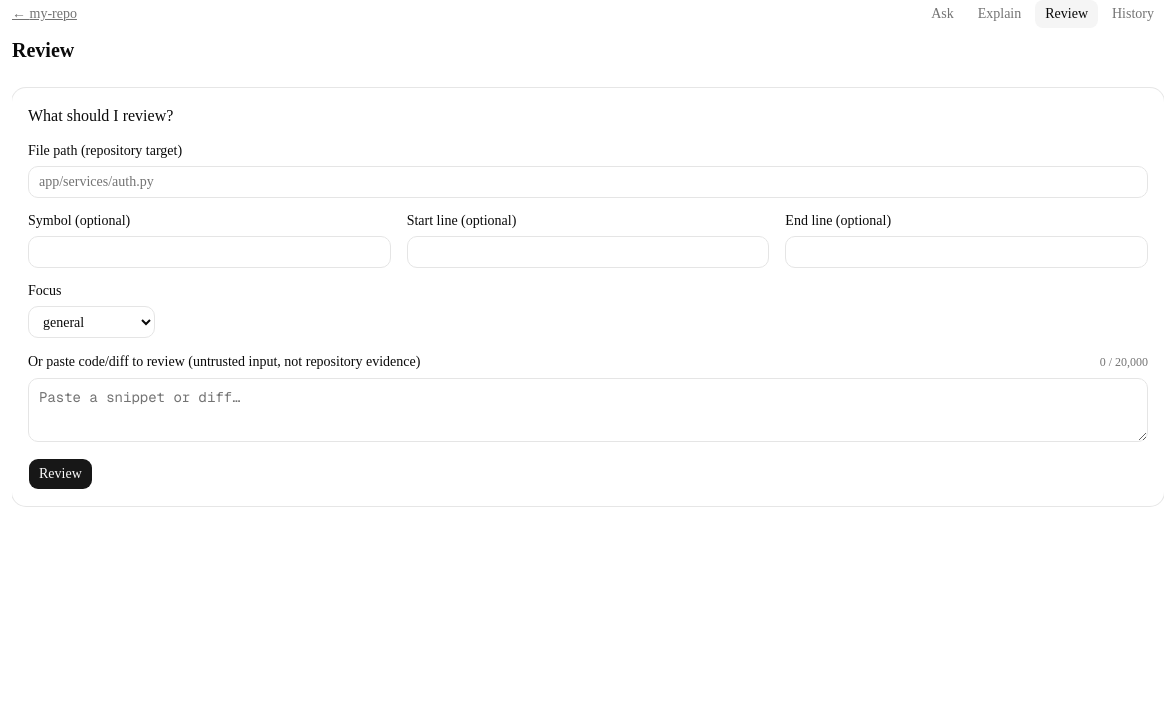
Test: ReviewPage › renders a dedicated insufficient-evidence state, not an error
Type "unknown.py" into the field labelled "File path (repository target)". click: (588,182)
box: [28,166,1148,198]
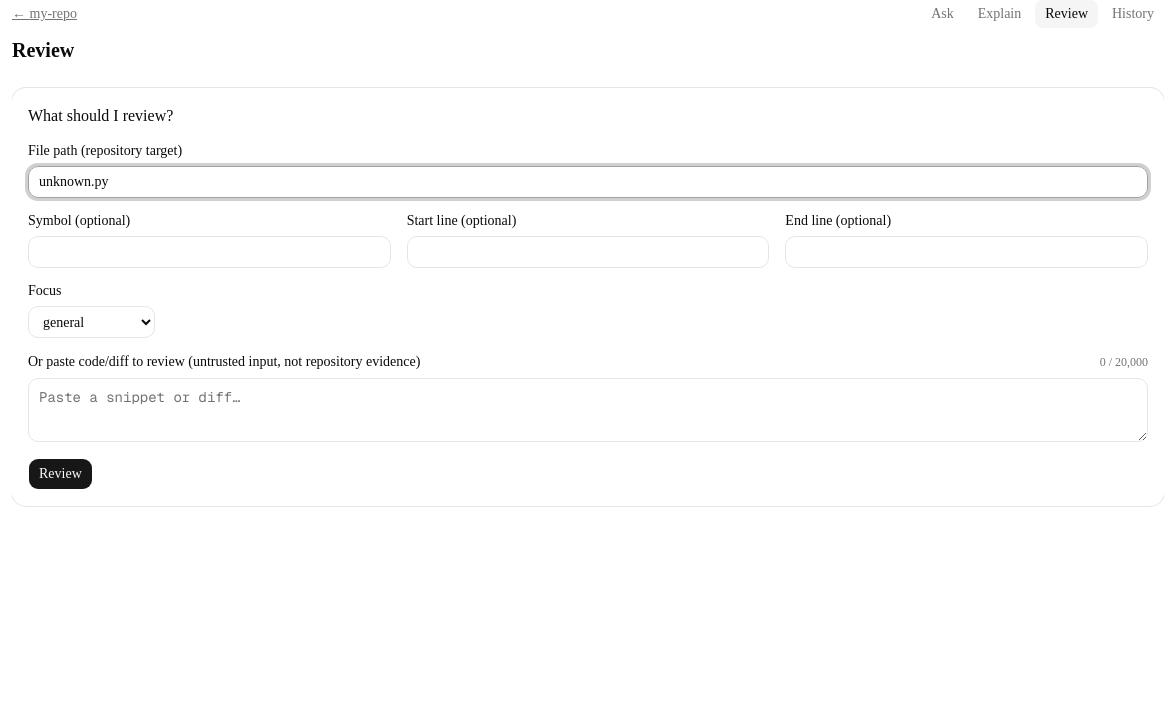
Click the button "Review". click: (60,474)
box: [28,458,93,490]
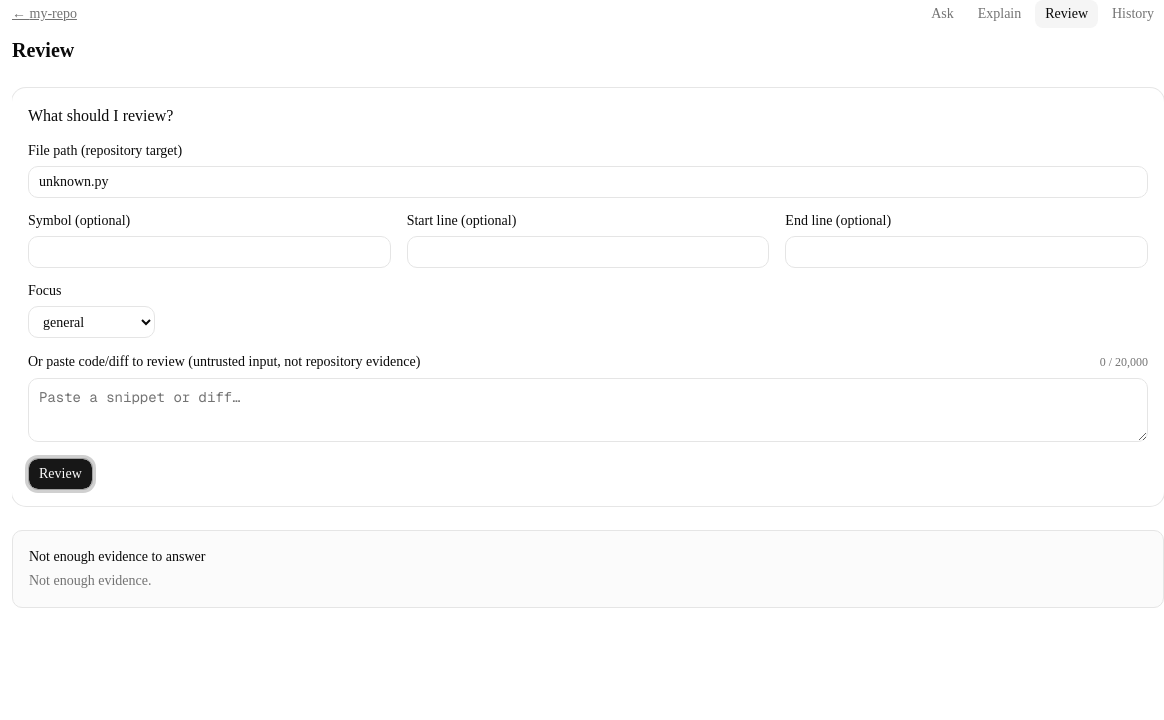
Expected: the text "Not enough evidence to answer" is shown, [29,549,206,564]
